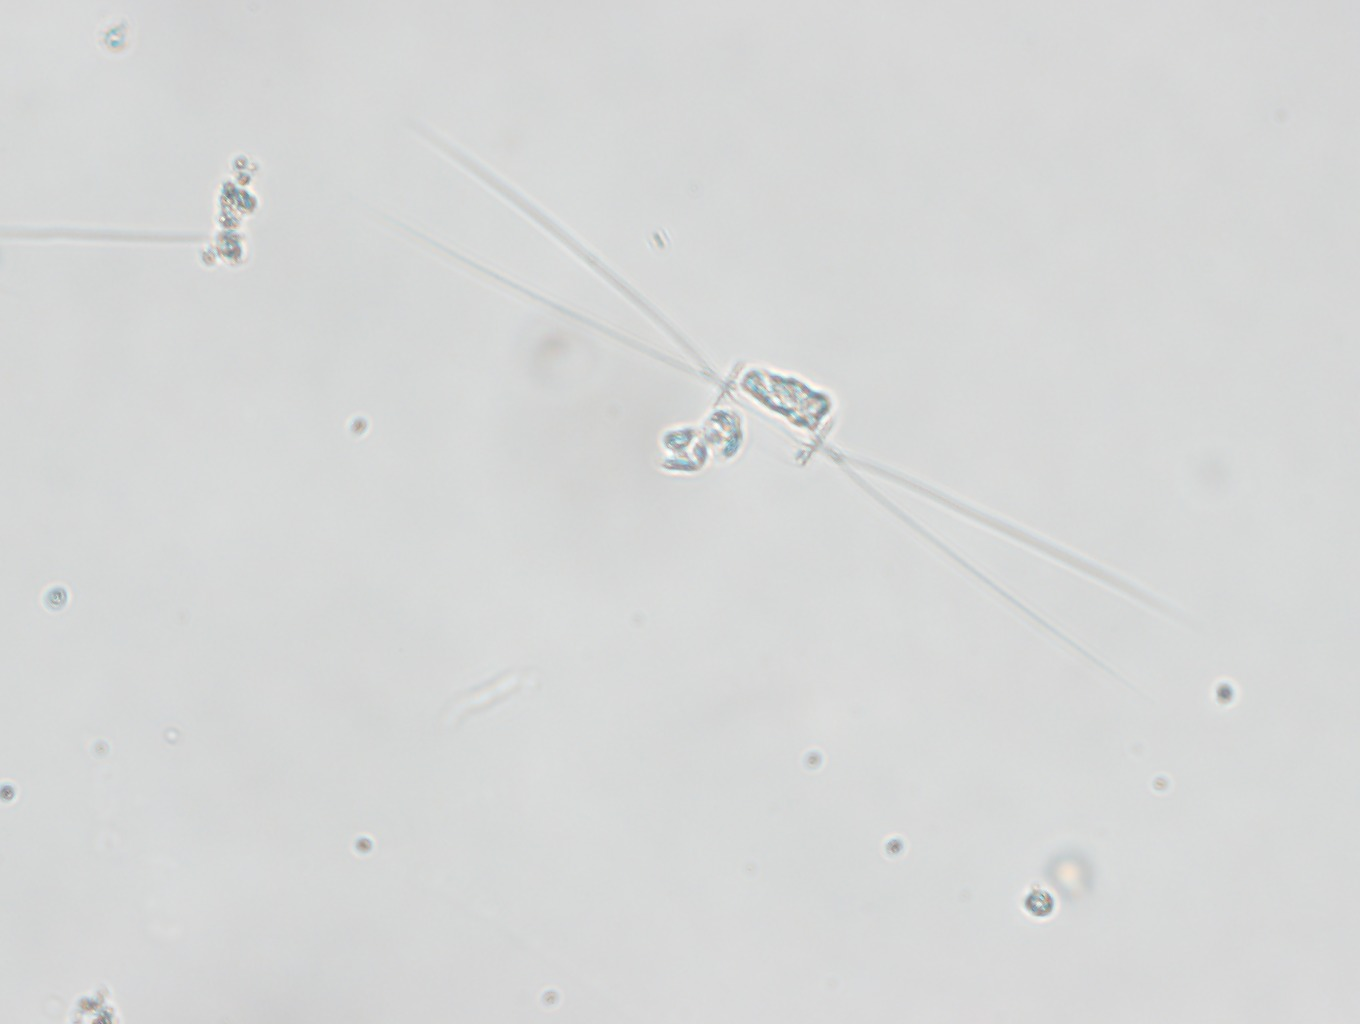chaetoceros: (382, 133, 1200, 703)
